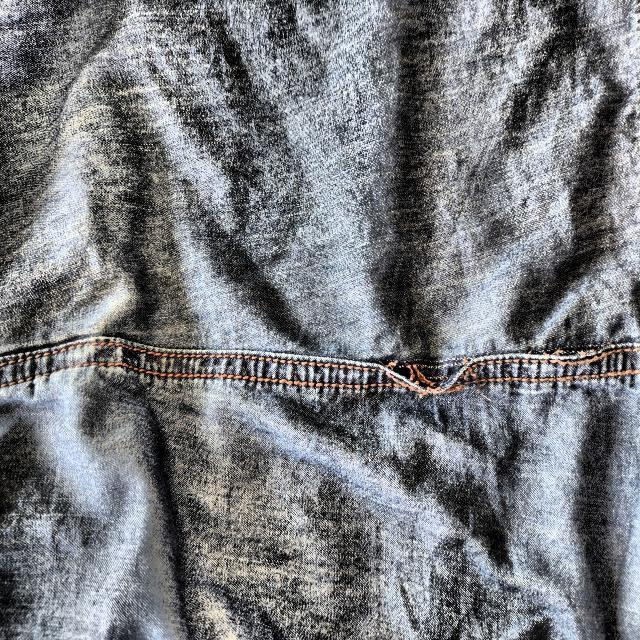gray stitch: (378, 348, 496, 402)
